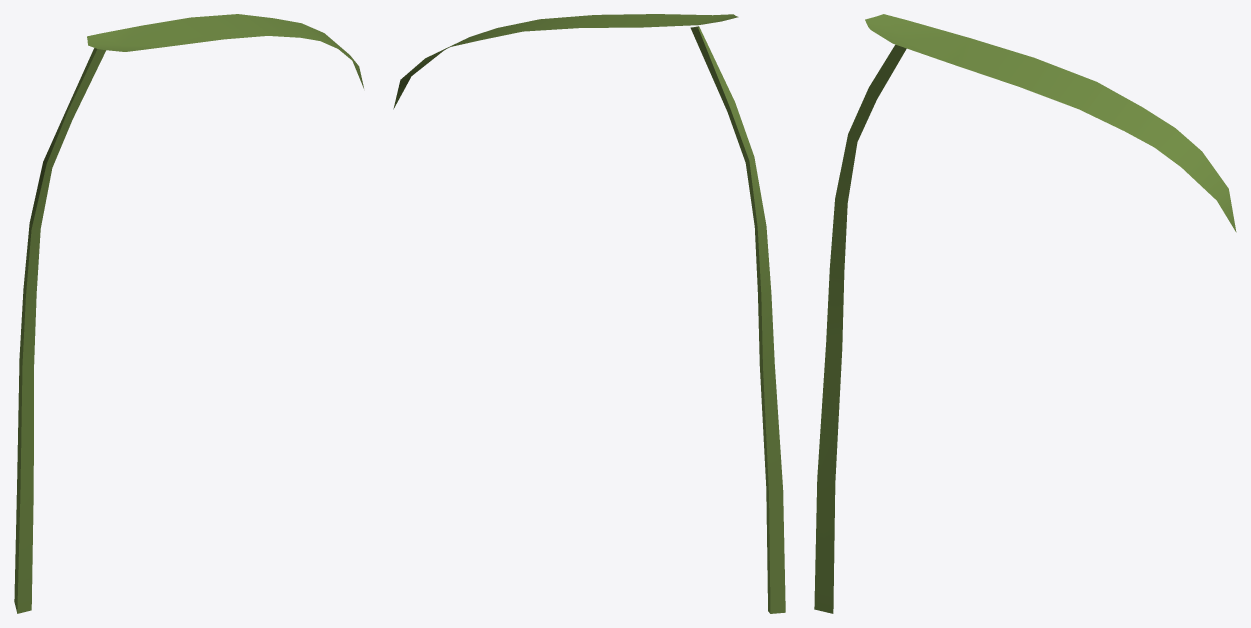
Rendered from plant_water_twig_solo_E.fbx.
3 renders of one model, left to right at view 1: azimuth 30°, elevation 25°; view 2: azimuth 150°, elevation 25°; view 3: azimuth 330°, elevation 25°, orthographic. The views are drawn at different scales.
Parts seen in each view (by area): view 1: plant_water_twig_solo_E; view 2: plant_water_twig_solo_E; view 3: plant_water_twig_solo_E.
Part boxes in pixels (left/top/right/bottom): plant_water_twig_solo_E: left=14, top=14, right=363, bottom=613; plant_water_twig_solo_E: left=393, top=14, right=785, bottom=613; plant_water_twig_solo_E: left=814, top=14, right=1236, bottom=613.
Size of the model in its own units: 18.98 by 27.93 by 3.77.
